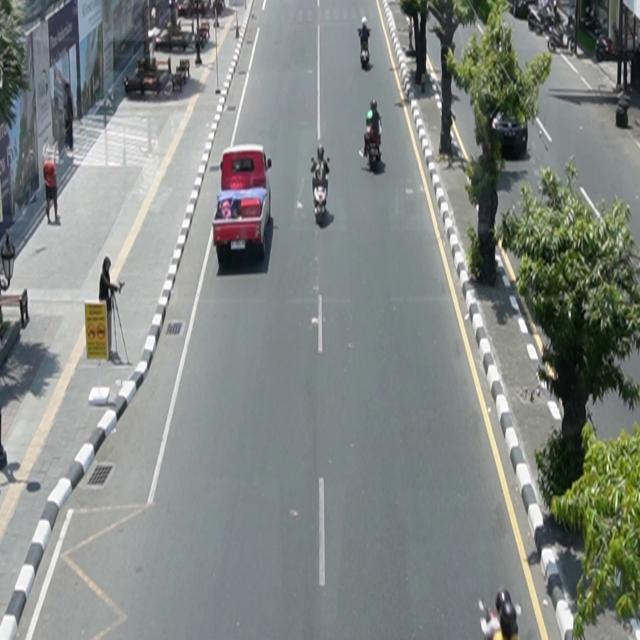car: (213, 145, 273, 264)
